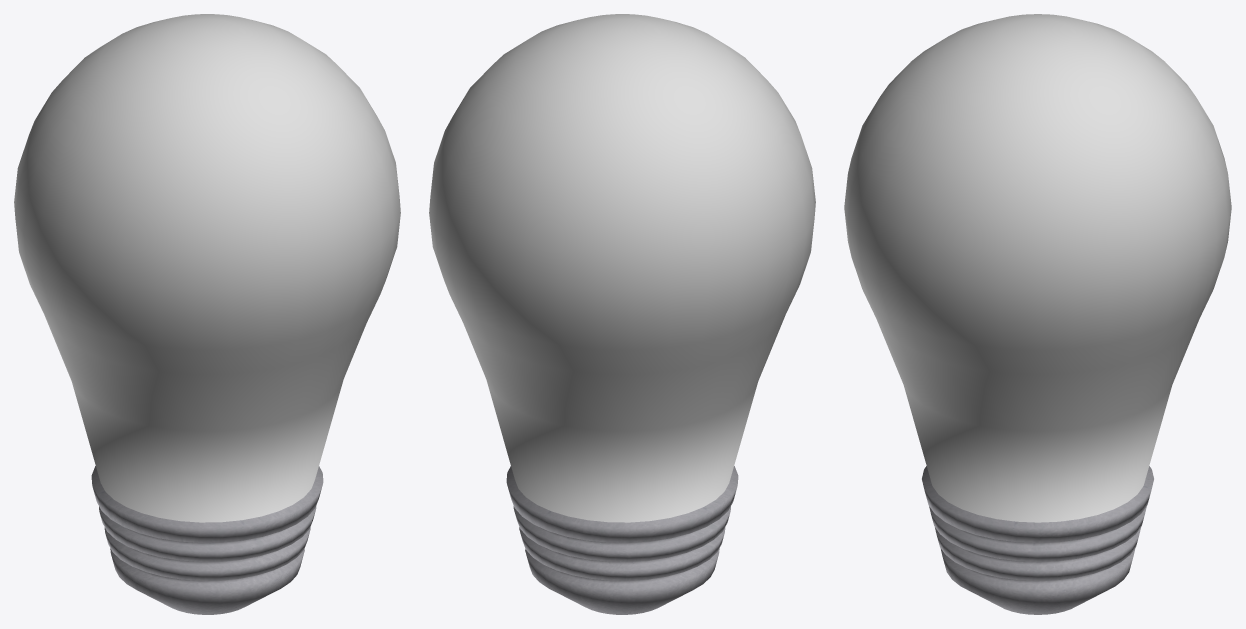
The model's file is light_bulb.fbx.
The picture shows the model from 3 angles, left to right: view 1: azimuth 30°, elevation 25°; view 2: azimuth 150°, elevation 25°; view 3: azimuth 270°, elevation 25°; orthographic projection.
Parts seen in each view (by area): view 1: Sphere; view 2: Sphere; view 3: Sphere.
Part boxes in pixels (left/top/right/bottom): Sphere: left=14, top=14, right=400, bottom=614; Sphere: left=429, top=14, right=815, bottom=614; Sphere: left=844, top=14, right=1231, bottom=614.
Bounding box in the file's own units: 200 × 326 × 200.
